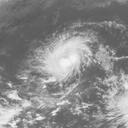cyclone: (35, 31, 90, 84)
